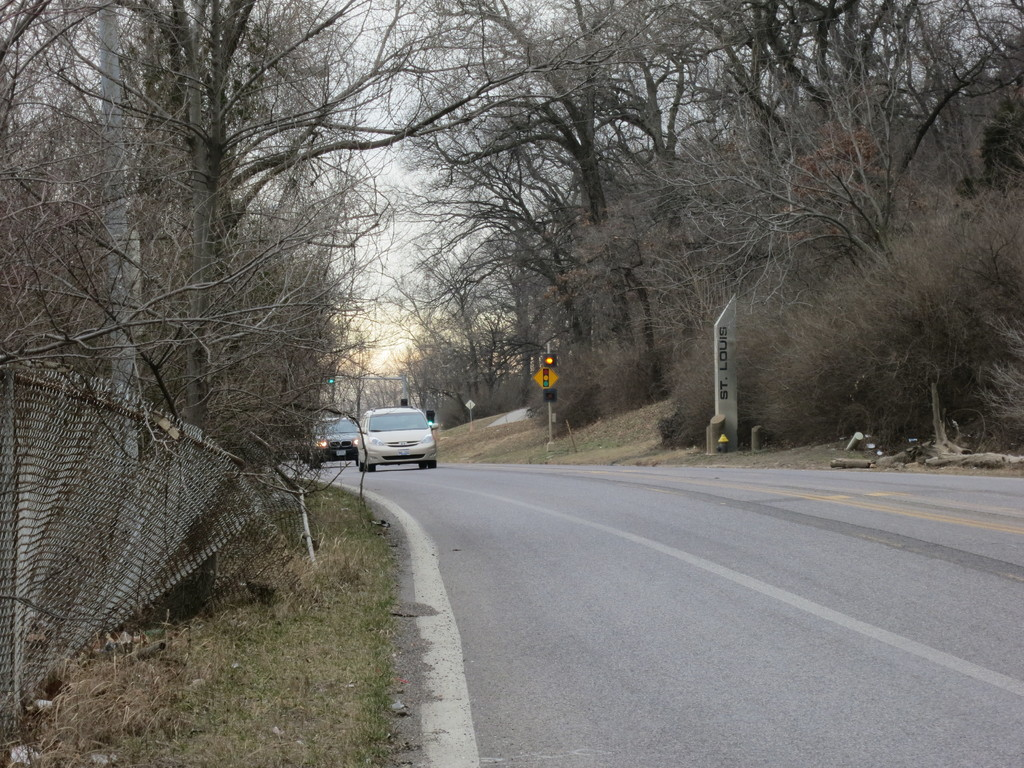Car: (352, 397, 449, 473), (304, 412, 355, 462)
